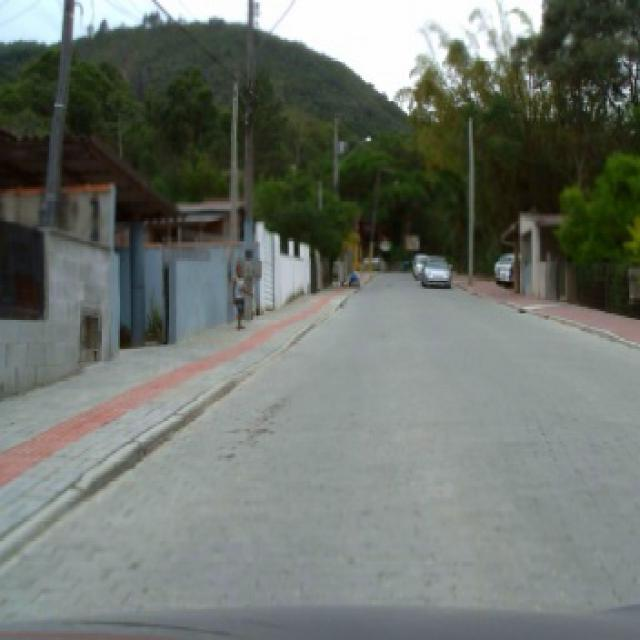Poth-hole: (520, 304, 529, 312)
